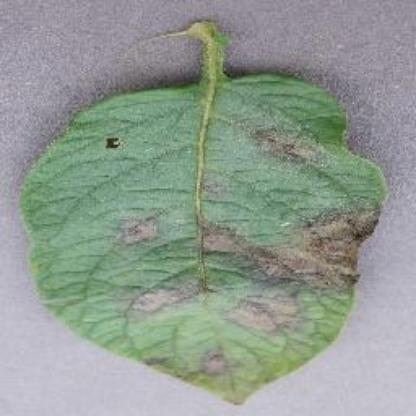Late-Blight: (17, 20, 384, 402)
